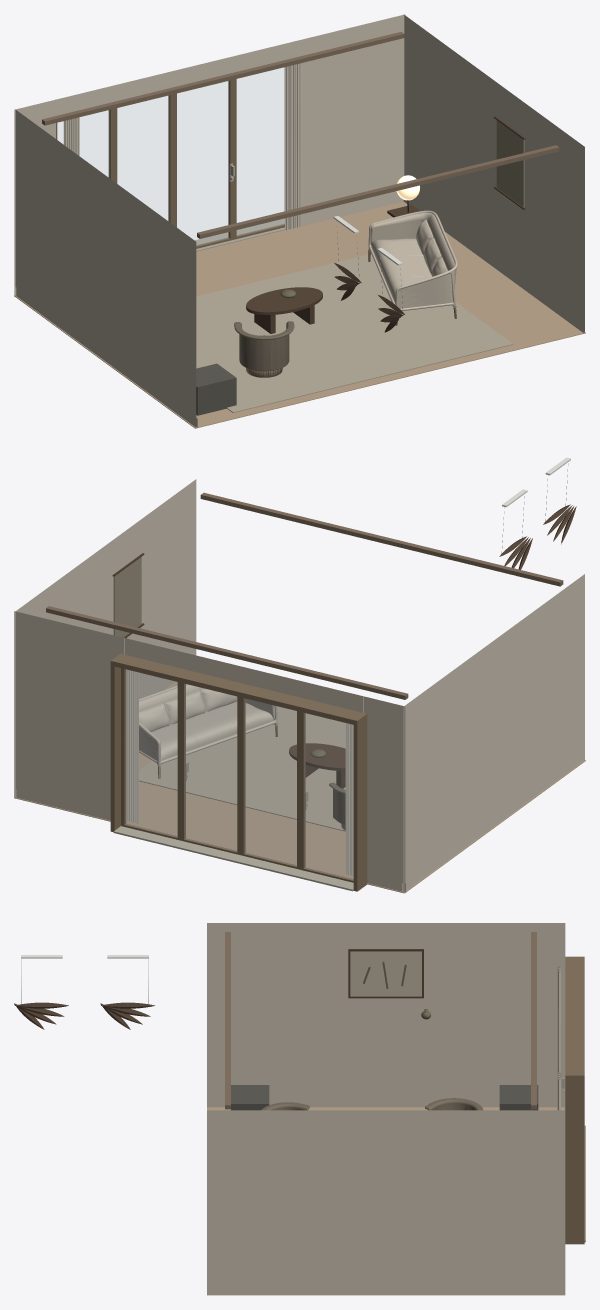
File: great-3.glb
3 views of the same model, one above another, from view 1: azimuth 30°, elevation 25°; view 2: azimuth 150°, elevation 25°; view 3: azimuth 270°, elevation 25° (orthographic).
Parts seen in each view (by area): view 1: DESIGN | great removable wall finish, DESIGN | Great room primary ground, DESIGN | great floor finish, DESIGN | R10 bifold panel 4 glass, DESIGN | R10 bifold panel 3 glass, DESIGN | Great room sofa facing conversation, DESIGN | R10 bifold panel 2 glass, DESIGN | Retreat concealed light edge, DESIGN | Retreat concealed light edge.001, DESIGN | Great room soft window edge.001, DESIGN | Required Bellustar swivel chair one, DESIGN | Great room linen hanging (+8 smaller); view 2: DESIGN | great removable wall finish, DESIGN | Great room primary ground, DESIGN | great floor finish, DESIGN | R10 bifold panel 3 glass, DESIGN | R10 bifold panel 4 glass, DESIGN | R10 bifold panel 2 glass, DESIGN | R10 bifold panel 1 glass, DESIGN | Great room sofa facing conversation, DESIGN | R10 garden opening head, DESIGN | Retreat concealed light edge, DESIGN | Retreat concealed light edge.001, DESIGN | R10 garden opening jamb (+14 smaller); view 3: DESIGN | great removable wall finish, DESIGN | R10 garden opening jamb.001, DESIGN | R10 quiet mineral artwork, DESIGN | R10 garden opening head, DESIGN | great floor finish, DESIGN | Retreat concealed light edge, DESIGN | Retreat concealed light edge.001, DESIGN | Great room low stone display, DESIGN | Great room low stone display.001, DESIGN | Required Flou pendant 1, DESIGN | Required Flou pendant 2, DESIGN | R10 mineral artwork slim frame (+1 smaller).
Part boxes in pixels (left/top/right/bottom): DESIGN | great removable wall finish: left=14, top=14, right=584, bottom=427; DESIGN | Great room primary ground: left=196, top=254, right=513, bottom=412; DESIGN | great floor finish: left=14, top=201, right=585, bottom=428; DESIGN | R10 bifold panel 4 glass: left=177, top=81, right=228, bottom=245; DESIGN | R10 bifold panel 3 glass: left=237, top=67, right=284, bottom=235; DESIGN | Great room sofa facing conversation: left=368, top=210, right=457, bottom=325; DESIGN | R10 bifold panel 2 glass: left=117, top=96, right=168, bottom=220; DESIGN | Retreat concealed light edge: left=197, top=145, right=559, bottom=238; DESIGN | Retreat concealed light edge.001: left=42, top=31, right=404, bottom=125; DESIGN | Great room soft window edge.001: left=285, top=63, right=301, bottom=230; DESIGN | Required Bellustar swivel chair one: left=234, top=321, right=294, bottom=377; DESIGN | Great room linen hanging: left=496, top=120, right=524, bottom=207; DESIGN | great removable wall finish: left=14, top=479, right=584, bottom=892; DESIGN | Great room primary ground: left=139, top=706, right=345, bottom=831; DESIGN | great floor finish: left=14, top=681, right=585, bottom=893; DESIGN | R10 bifold panel 3 glass: left=125, top=669, right=177, bottom=836; DESIGN | R10 bifold panel 4 glass: left=185, top=684, right=236, bottom=851; DESIGN | R10 bifold panel 2 glass: left=245, top=699, right=296, bottom=865; DESIGN | R10 bifold panel 1 glass: left=305, top=713, right=353, bottom=879; DESIGN | Great room sofa facing conversation: left=139, top=684, right=277, bottom=778; DESIGN | R10 garden opening head: left=110, top=653, right=367, bottom=725; DESIGN | Retreat concealed light edge: left=200, top=492, right=563, bottom=586; DESIGN | Retreat concealed light edge.001: left=46, top=606, right=408, bottom=699; DESIGN | R10 garden opening jamb: left=353, top=716, right=367, bottom=891; DESIGN | great removable wall finish: left=207, top=923, right=565, bottom=1294; DESIGN | R10 garden opening jamb.001: left=565, top=1077, right=584, bottom=1244; DESIGN | R10 quiet mineral artwork: left=350, top=951, right=421, bottom=996; DESIGN | R10 garden opening head: left=565, top=956, right=584, bottom=1080; DESIGN | great floor finish: left=207, top=1107, right=565, bottom=1295; DESIGN | Retreat concealed light edge: left=225, top=932, right=230, bottom=1109; DESIGN | Retreat concealed light edge.001: left=531, top=932, right=536, bottom=1109; DESIGN | Great room low stone display: left=231, top=1085, right=269, bottom=1110; DESIGN | Great room low stone display.001: left=499, top=1085, right=538, bottom=1110; DESIGN | Required Flou pendant 1: left=14, top=1002, right=68, bottom=1029; DESIGN | Required Flou pendant 2: left=100, top=1002, right=154, bottom=1029; DESIGN | R10 mineral artwork slim frame: left=348, top=949, right=423, bottom=998.
Size of the model in its own units: 6 by 3.04 by 7.7.
